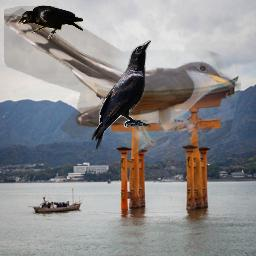Crow: (91, 40, 151, 149), (17, 5, 83, 39)
Cuckoo: (4, 6, 241, 158)
